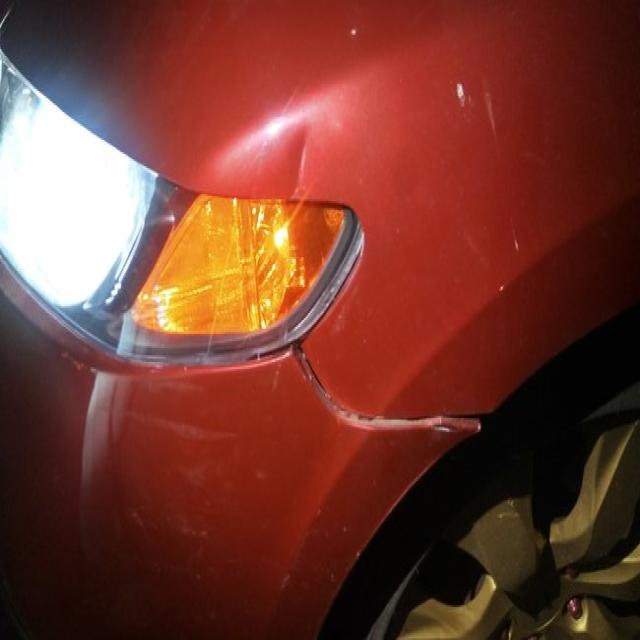dent: (288, 113, 314, 200)
misalignment: (242, 336, 488, 429)
